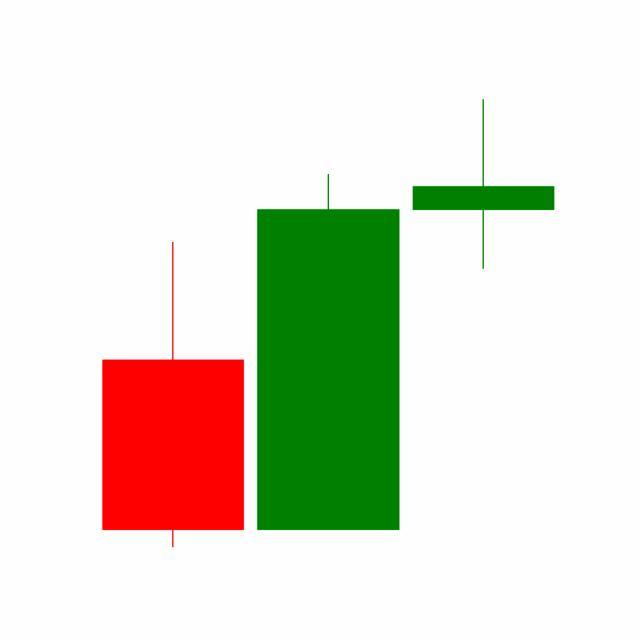Spinning Top: (406, 97, 562, 272)
